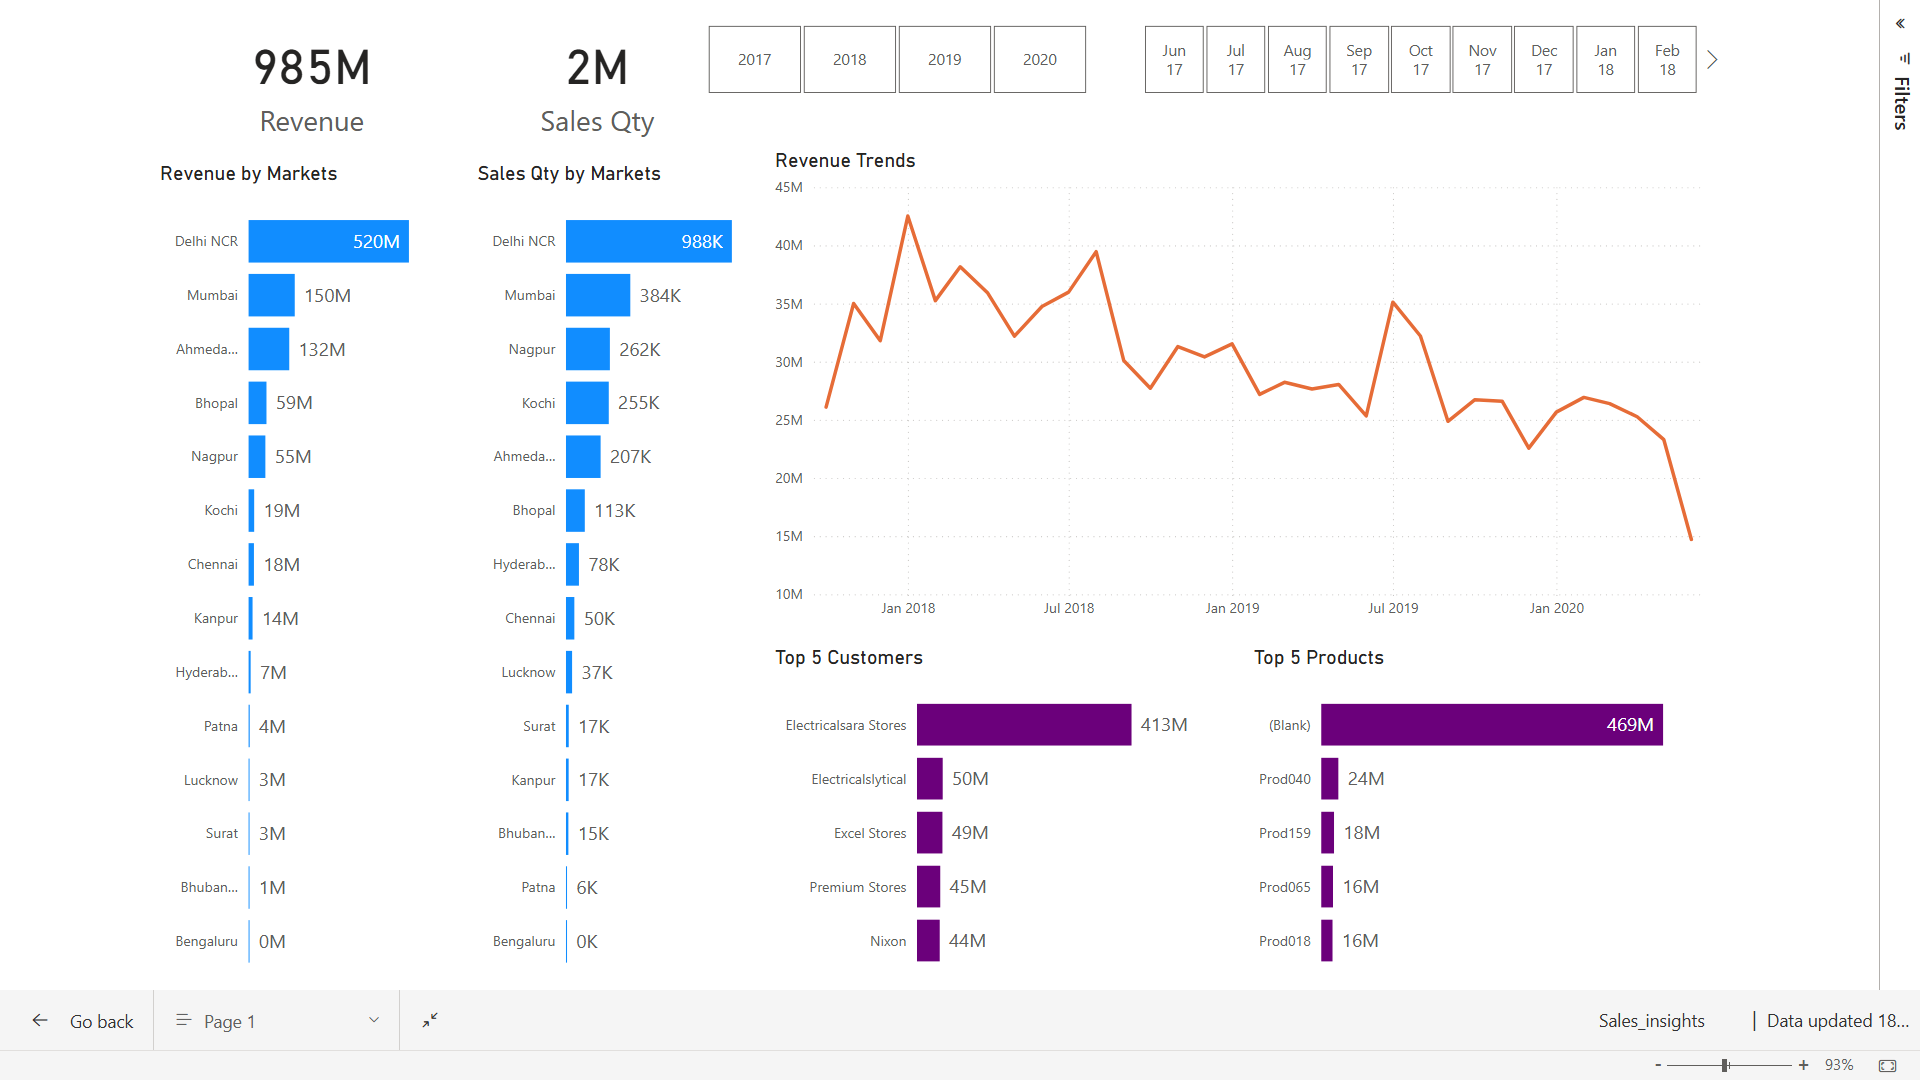

What the dashboard file says about the page in this screenshot:
{"tool":"powerbi","page":{"name":"Page 1","canvas":[1350,850],"ordinal":0},"visuals":[{"type":"card","fields":{"Values":["BaseMeasure.Revenue"]},"box":[0,0,273.2,138],"z":0},{"type":"card","fields":{"Values":["BaseMeasure.Sales Qty"]},"box":[273.2,1.5,215.9,136.6],"z":1000},{"type":"barChart","title":"Revenue by Markets","fields":{"Y":["BaseMeasure.Revenue"],"Category":["sales markets.markets_name"]},"box":[1.5,138,271.7,712.3],"z":2000},{"type":"barChart","title":"Sales Qty by Markets","fields":{"Y":["BaseMeasure.Sales Qty"],"Category":["sales markets.markets_name"]},"box":[273.2,138,271.7,712.3],"z":3000},{"type":"slicer","fields":{"Values":["sales date.year"]},"box":[450.8,14.7,374.5,72],"z":4000},{"type":"slicer","fields":{"Values":["sales date.cy_date"]},"box":[825.3,14.7,524.3,72],"z":5000},{"type":"barChart","title":"Top 5 Customers","fields":{"Y":["BaseMeasure.Revenue"],"Category":["sales customers.custmer_name"]},"box":[528.7,553.6,399.4,296.6],"z":6000},{"type":"barChart","title":"Top 5 Products","fields":{"Y":["BaseMeasure.Revenue"],"Category":["sales products.product_code"]},"box":[939.9,553.6,409.7,296.6],"z":7000},{"type":"lineChart","title":"Revenue Trends","fields":{"Y":["BaseMeasure.Revenue"],"Category":["sales date.cy_date.Variation.Date Hierarchy.Year","sales date.cy_date.Variation.Date Hierarchy.Quarter","sales date.cy_date.Variation.Date Hierarchy.Month","sales date.cy_date.Variation.Date Hierarchy.Day"]},"box":[528.7,127.8,820.9,412.7],"z":8000}]}

Visuals, with their boxes on the page's 1350x850 design canvas (x1, y1, x2, y2). These are canvas units, not pixel positions in the 1920x1080 screenshot, which may show the page scaled, cropped or inside an application window:
card - BaseMeasure.Revenue: rect(0, 0, 273, 138)
card - BaseMeasure.Sales Qty: rect(273, 2, 489, 138)
"Revenue by Markets" barChart: rect(2, 138, 273, 850)
"Sales Qty by Markets" barChart: rect(273, 138, 545, 850)
slicer - sales date.year: rect(451, 15, 825, 87)
slicer - sales date.cy_date: rect(825, 15, 1350, 87)
"Top 5 Customers" barChart: rect(529, 554, 928, 850)
"Top 5 Products" barChart: rect(940, 554, 1350, 850)
"Revenue Trends" lineChart: rect(529, 128, 1350, 540)
